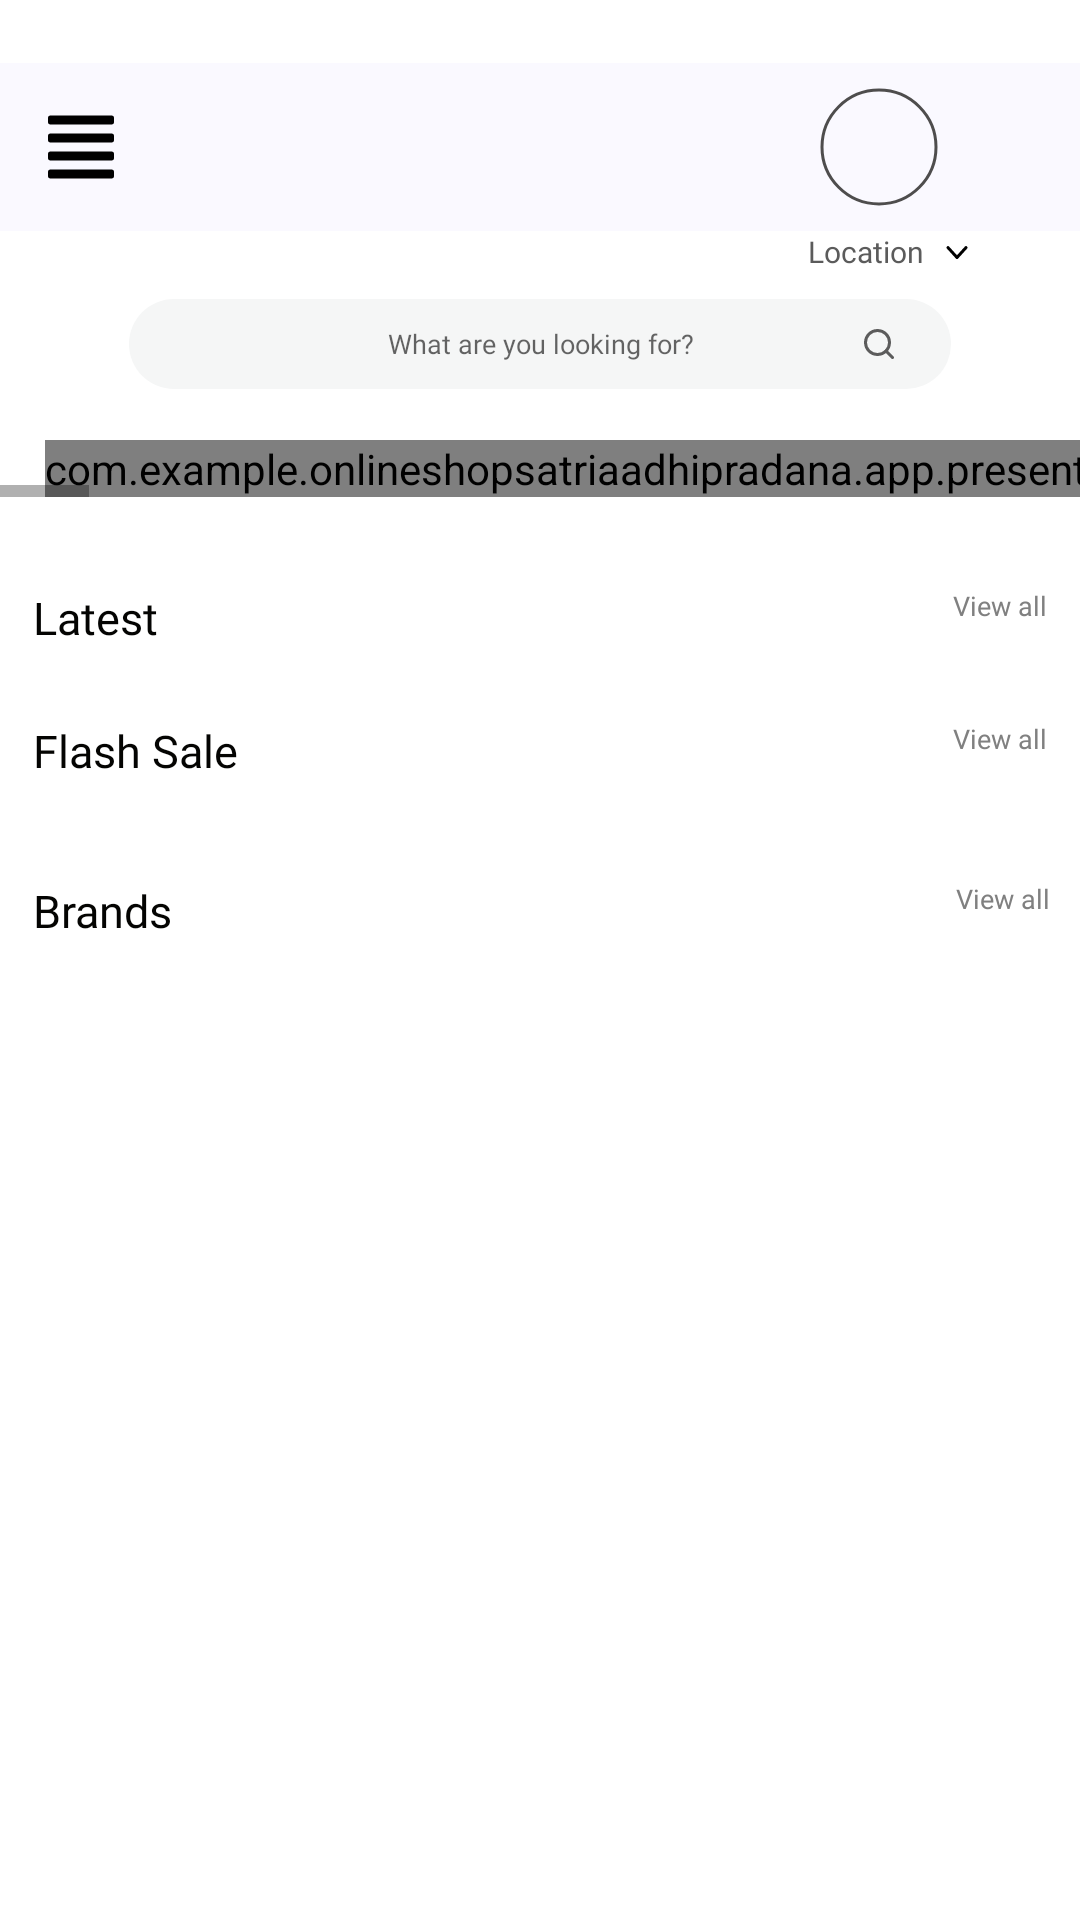

Point at icon controls on the screen. Image size 1080 × 1920, points as (x=x, y=y).
menu: (x=81, y=147)
